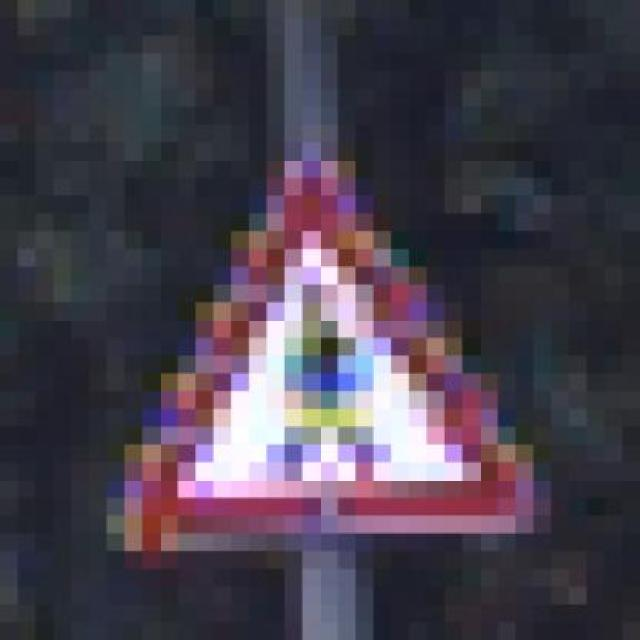Pedestrian Crossing: (89, 143, 569, 552)
